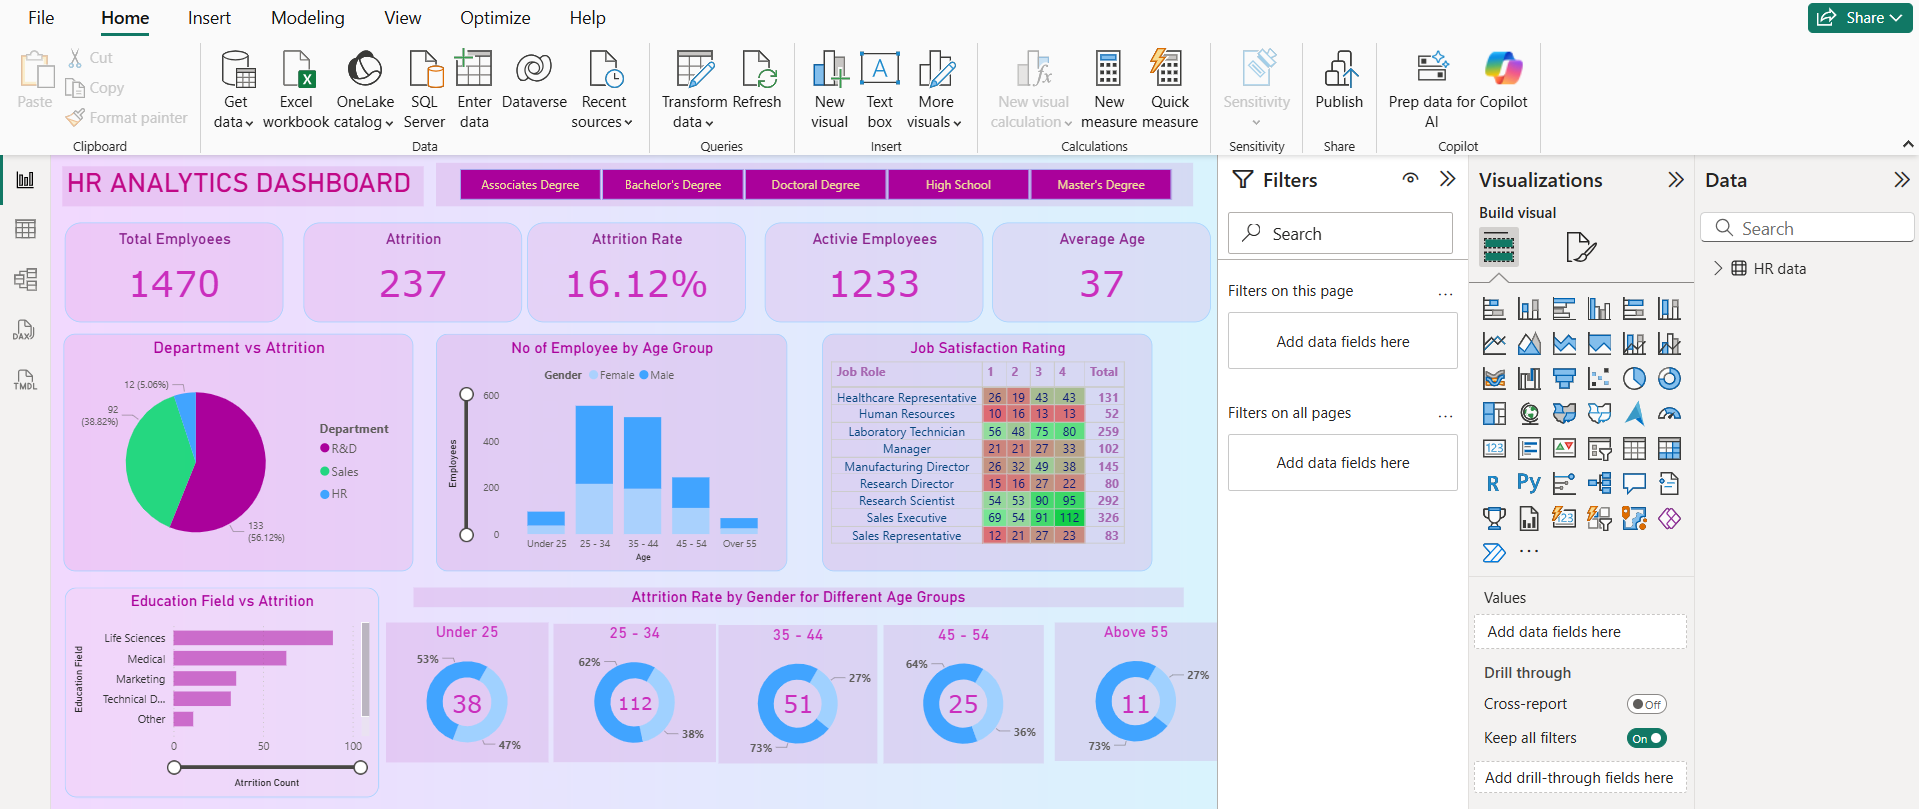

The dashboard page shown, as its layout file describes it:
{"tool":"powerbi","page":{"name":"Page 1","canvas":[1280,720],"ordinal":0},"visuals":[{"type":"card","title":"Total Emplyoees","fields":{"Values":["Sum(HR data.Employee Count)"]},"box":[15.1,74.1,240.1,109.8],"z":0},{"type":"card","title":"Attrition","fields":{"Values":["HR data.Atrrition Count"]},"box":[277.2,74.1,240.1,109.8],"z":1000},{"type":"card","title":"Attrition Rate","fields":{"Values":["HR data.Attrition Rate"]},"box":[522.8,74.1,240.1,109.8],"z":2000},{"type":"card","title":"Activie Employees","fields":{"Values":["HR data.Active Employees"]},"box":[783.5,74.1,240.1,109.8],"z":3000},{"type":"card","title":"Average Age","fields":{"Values":["HR data.Average Age"]},"box":[1033.3,74.1,240.1,109.8],"z":4000},{"type":"pieChart","title":"Department vs Attrition","fields":{"Category":["HR data.Department"],"Y":["HR data.Atrrition Count"]},"box":[13.7,196.2,384.2,260.7],"z":5000},{"type":"columnChart","title":"No of Employee by Age Group","fields":{"Category":["HR data.CF_age band"],"Y":["Sum(HR data.Employee Count)"],"Series":["HR data.Gender"]},"box":[422.6,196.2,385.6,260.7],"z":6000},{"type":"pivotTable","title":"Job Satisfaction Rating","fields":{"Values":["Sum(HR data.Employee Count)"],"Rows":["HR data.Job Role"],"Columns":["HR data.Job Satisfaction"]},"box":[846.7,196.2,362.3,260.7],"z":7000},{"type":"barChart","title":"Education Field vs Attrition","fields":{"Category":["HR data.Education Field"],"Y":["HR data.Atrrition Count"]},"box":[15.1,474.8,344.4,230.5],"z":8000},{"type":"donutChart","title":"Under 25","fields":{"Category":["HR data.Gender"],"Y":["HR data.Atrrition Count"],"Series":["HR data.CF_age band"]},"box":[367.8,513.2,178.4,153.7],"z":9000},{"type":"textbox","title":"Attrition Rate by Gender for Different Age Groups","box":[397.9,474.8,845.3,22],"z":10000},{"type":"donutChart","title":"25 - 34","fields":{"Category":["HR data.Gender"],"Y":["HR data.Atrrition Count"],"Series":["HR data.CF_age band"]},"box":[551.6,514.6,178.4,152.3],"z":11000},{"type":"donutChart","title":"35 - 44","fields":{"Category":["HR data.Gender"],"Y":["HR data.Atrrition Count"],"Series":["HR data.CF_age band"]},"box":[732.8,516,174.3,152.3],"z":12000},{"type":"donutChart","title":"45 - 54","fields":{"Category":["HR data.Gender"],"Y":["HR data.Atrrition Count"],"Series":["HR data.CF_age band"]},"box":[913.9,516,175.6,152.3],"z":13000},{"type":"donutChart","title":"Above 55","fields":{"Category":["HR data.Gender"],"Y":["HR data.Atrrition Count"],"Series":["HR data.CF_age band"]},"box":[1101.6,513.2,178.4,152.3],"z":14000},{"type":"card","title":"Activie Employees","fields":{"Values":["HR data.Atrrition Count"]},"box":[419.9,576.3,74.1,53.5],"z":15000},{"type":"card","title":"Activie Employees","fields":{"Values":["HR data.Atrrition Count"]},"box":[616.1,576.3,50.8,53.5],"z":16000},{"type":"card","title":"Activie Employees","fields":{"Values":["HR data.Atrrition Count"]},"box":[783.5,576.3,74.1,53.5],"z":17000},{"type":"card","title":"Activie Employees","fields":{"Values":["HR data.Atrrition Count"]},"box":[964.7,576.3,74.1,53.5],"z":18000},{"type":"card","title":"Activie Employees","fields":{"Values":["HR data.Atrrition Count"]},"box":[1154,576.3,74.1,53.5],"z":19000},{"type":"textbox","title":"HR ANALYTICS DASHBOARD","box":[12.3,12.3,396.6,43.9],"z":20000},{"type":"slicer","fields":{"Values":["HR data.Education"]},"box":[422.6,8.2,831.6,48],"z":21000}]}

Visuals, with their boxes on the page's 1280x720 design canvas (x1, y1, x2, y2). These are canvas units, not pixel positions in the 1919x809 screenshot, which may show the page scaled, cropped or inside an application window:
"Total Emplyoees" card: <box>15,74,255,184</box>
"Attrition" card: <box>277,74,517,184</box>
"Attrition Rate" card: <box>523,74,763,184</box>
"Activie Employees" card: <box>784,74,1024,184</box>
"Average Age" card: <box>1033,74,1273,184</box>
"Department vs Attrition" pieChart: <box>14,196,398,457</box>
"No of Employee by Age Group" columnChart: <box>423,196,808,457</box>
"Job Satisfaction Rating" pivotTable: <box>847,196,1209,457</box>
"Education Field vs Attrition" barChart: <box>15,475,360,705</box>
"Under 25" donutChart: <box>368,513,546,667</box>
"Attrition Rate by Gender for Different Age Groups" textbox: <box>398,475,1243,497</box>
"25 - 34" donutChart: <box>552,515,730,667</box>
"35 - 44" donutChart: <box>733,516,907,668</box>
"45 - 54" donutChart: <box>914,516,1090,668</box>
"Above 55" donutChart: <box>1102,513,1280,666</box>
"Activie Employees" card: <box>420,576,494,630</box>
"Activie Employees" card: <box>616,576,667,630</box>
"Activie Employees" card: <box>784,576,858,630</box>
"Activie Employees" card: <box>965,576,1039,630</box>
"Activie Employees" card: <box>1154,576,1228,630</box>
"HR ANALYTICS DASHBOARD" textbox: <box>12,12,409,56</box>
slicer - HR data.Education: <box>423,8,1254,56</box>
